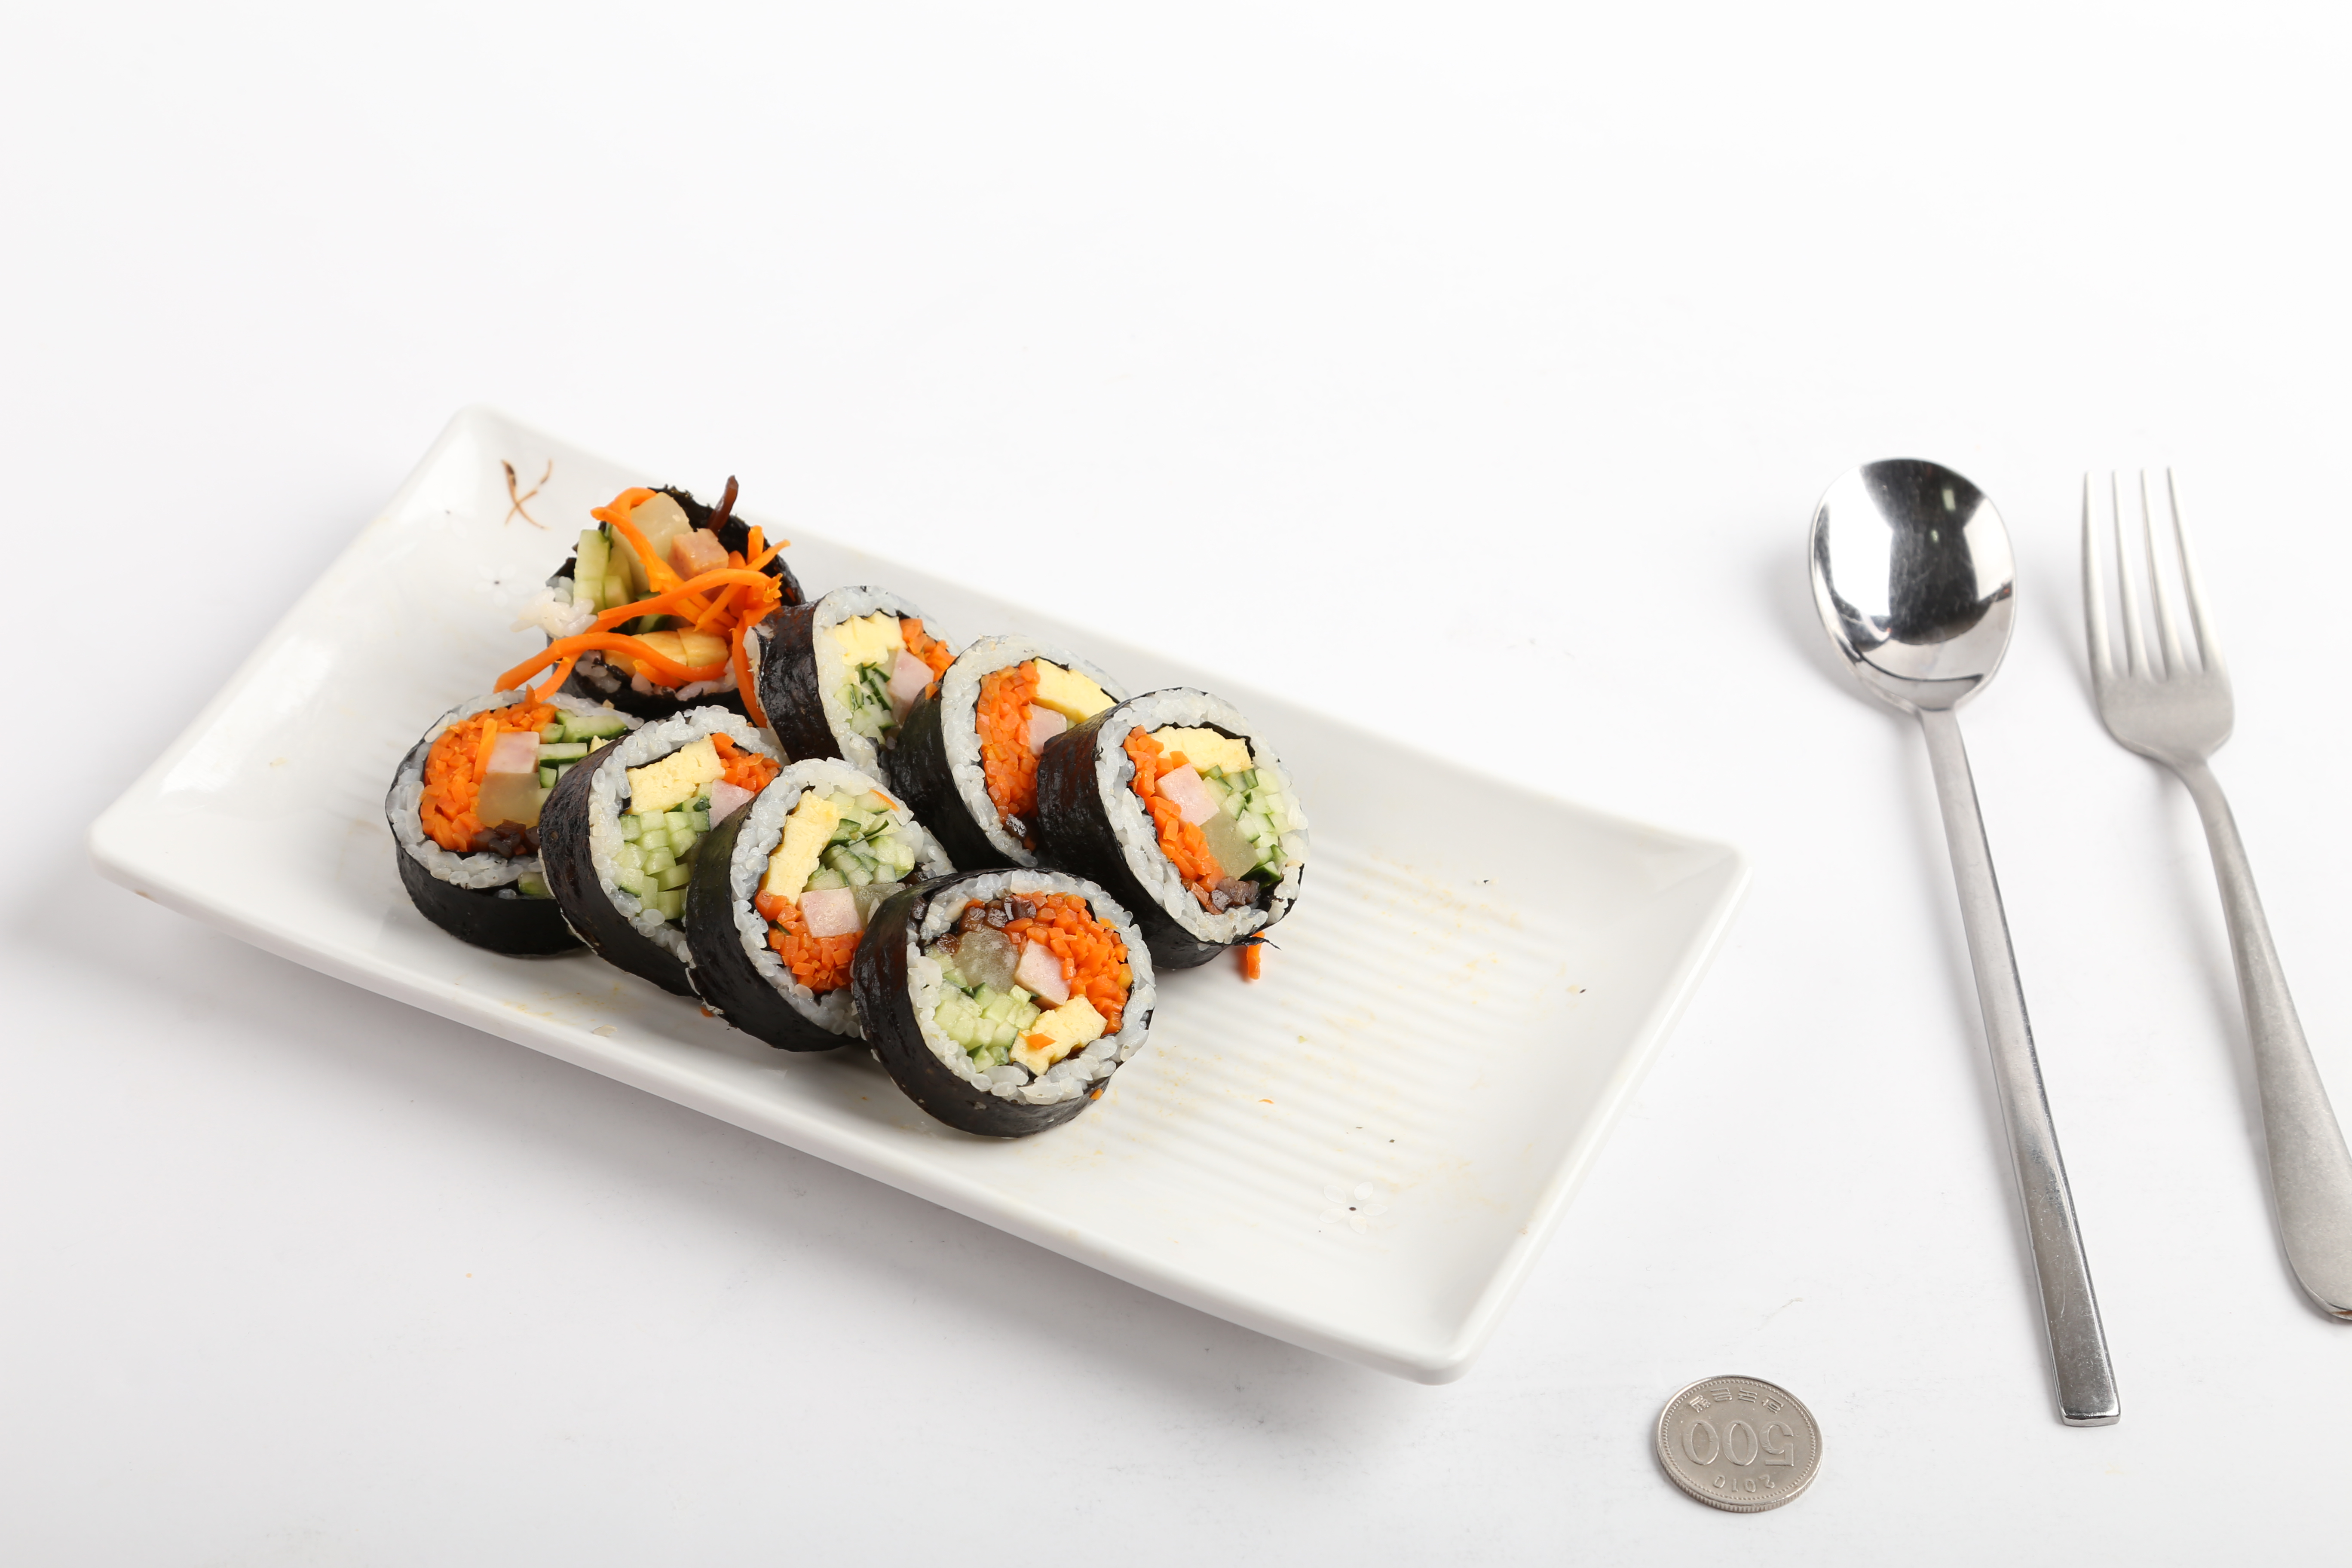dish: (70, 394, 1750, 1389)
ref_coin: (1641, 1360, 1822, 1522)
ref_fork: (2068, 460, 2249, 840)
ref_spoon: (1808, 446, 2019, 782)
김밥: (374, 483, 1321, 1157)
